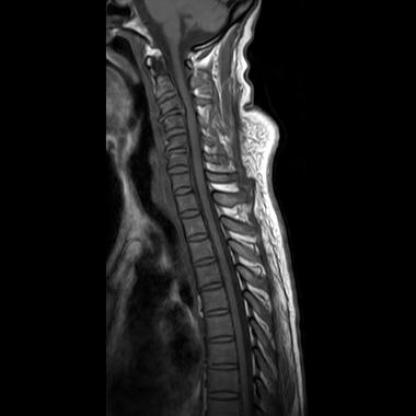Disc Protrusionrotation: (159, 107, 186, 119)
